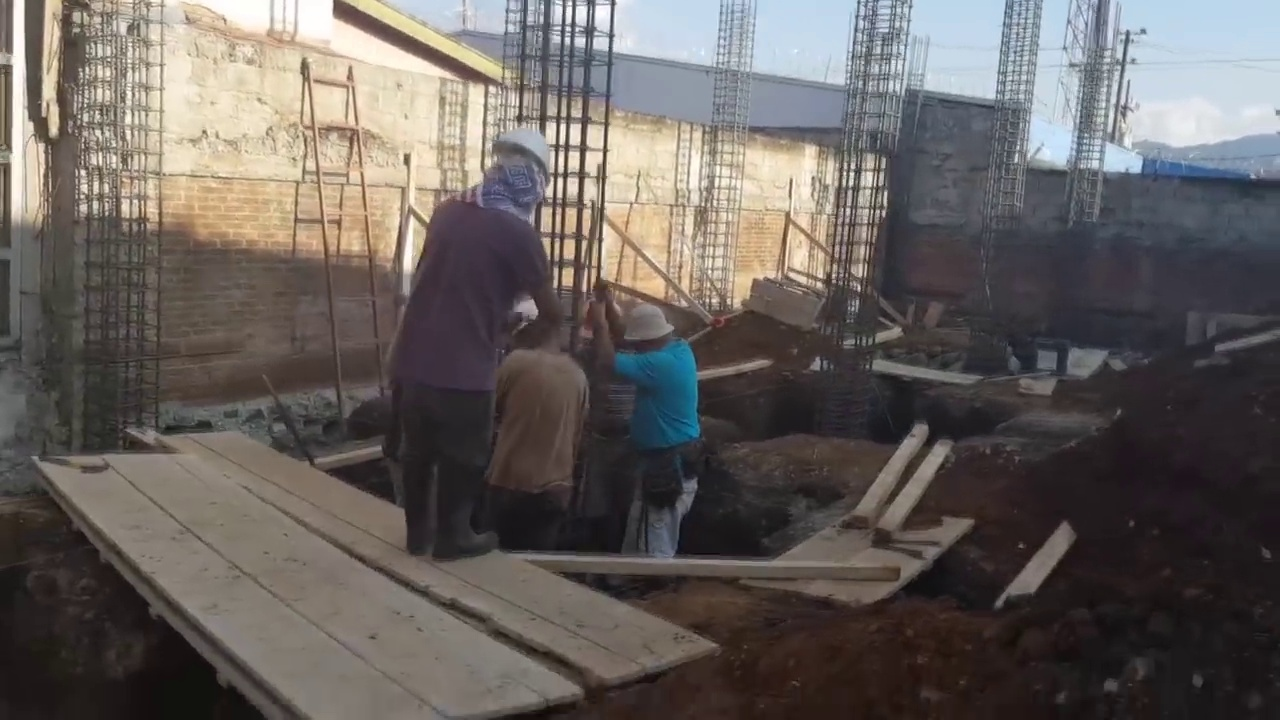helmet: (494, 124, 549, 176)
helmet-off: (616, 308, 674, 355)
helmet-on: (463, 123, 552, 213)
person: (384, 119, 567, 569), (605, 293, 704, 583), (483, 319, 593, 546)
